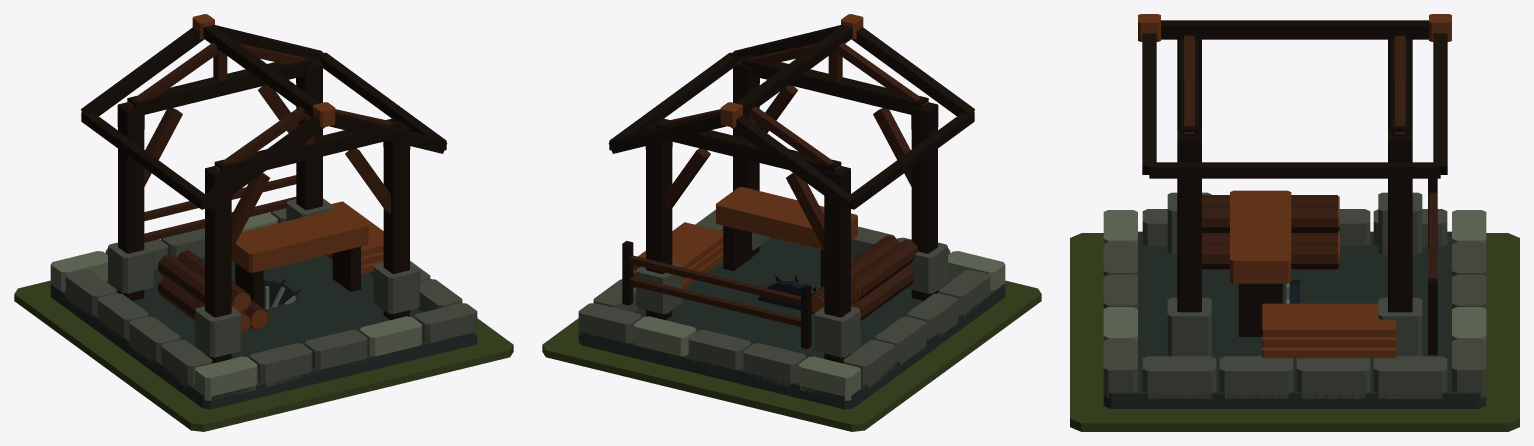
Rendered from sawmill_t2.glb.
3 views of the same model, side by side, from view 1: azimuth 30°, elevation 25°; view 2: azimuth 150°, elevation 25°; view 3: azimuth 270°, elevation 25° (orthographic). The views are drawn at different scales.
Visible parts, largest first — view 1: MMR | sawmill | T02 Architecture.001, MMR | sawmill | Tier 02 Ground.001, MMR | sawmill | T02 Header Frame.001, MMR | sawmill | T02 Saw Blade.001; view 2: MMR | sawmill | T02 Architecture.001, MMR | sawmill | Tier 02 Ground.001, MMR | sawmill | T02 Header Frame.001, MMR | sawmill | T02 Saw Blade.001; view 3: MMR | sawmill | T02 Architecture.001, MMR | sawmill | Tier 02 Ground.001, MMR | sawmill | T02 Header Frame.001.
Part boxes in pixels (left/top/right/bottom): MMR | sawmill | T02 Architecture.001: left=50, top=14, right=477, bottom=409; MMR | sawmill | Tier 02 Ground.001: left=14, top=280, right=513, bottom=431; MMR | sawmill | T02 Header Frame.001: left=117, top=42, right=410, bottom=191; MMR | sawmill | T02 Saw Blade.001: left=263, top=278, right=301, bottom=309; MMR | sawmill | T02 Architecture.001: left=578, top=14, right=1005, bottom=409; MMR | sawmill | Tier 02 Ground.001: left=542, top=280, right=1041, bottom=431; MMR | sawmill | T02 Header Frame.001: left=645, top=42, right=938, bottom=192; MMR | sawmill | T02 Saw Blade.001: left=757, top=274, right=816, bottom=313; MMR | sawmill | T02 Architecture.001: left=1103, top=14, right=1486, bottom=408; MMR | sawmill | Tier 02 Ground.001: left=1070, top=233, right=1519, bottom=431; MMR | sawmill | T02 Header Frame.001: left=1177, top=35, right=1412, bottom=162.
Bounding box in the file's own units: 2.35 × 2.09 × 2.35.
Materials: 1 (1 with a texture image).
